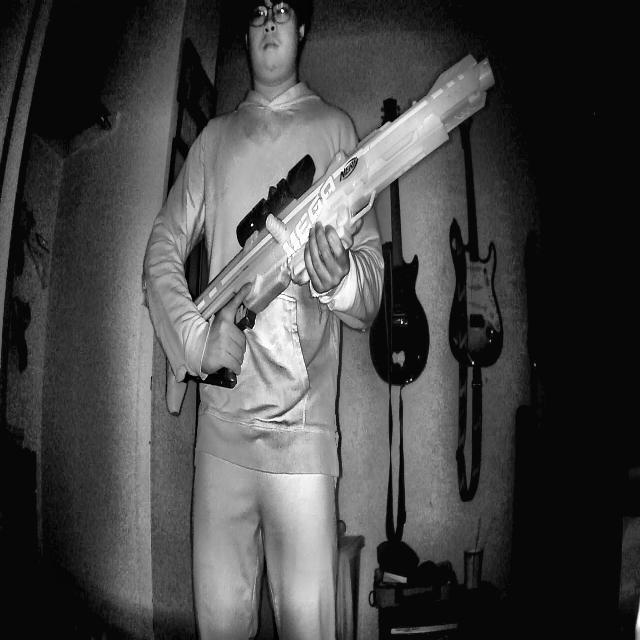Nerf_Blaster: (152, 39, 518, 422)
